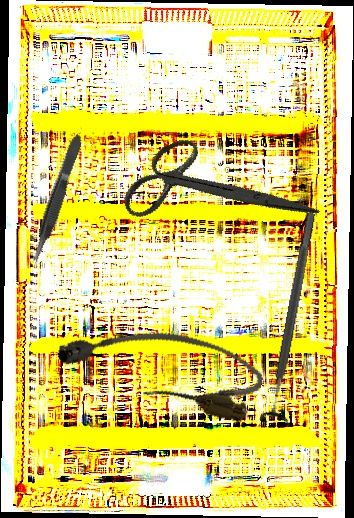Cannula: (52, 303, 269, 427)
Fixation Ring: (257, 210, 328, 426)
Iris Scissors: (109, 101, 320, 280)
Tissue Forceps: (25, 132, 88, 267)
